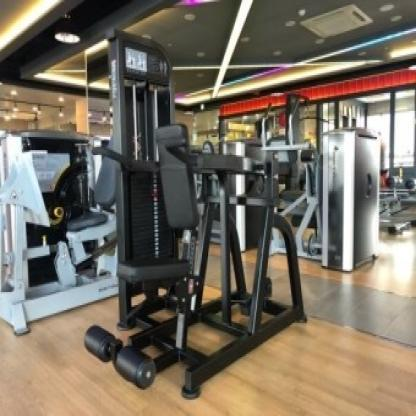seated dip machine: (92, 27, 313, 401)
